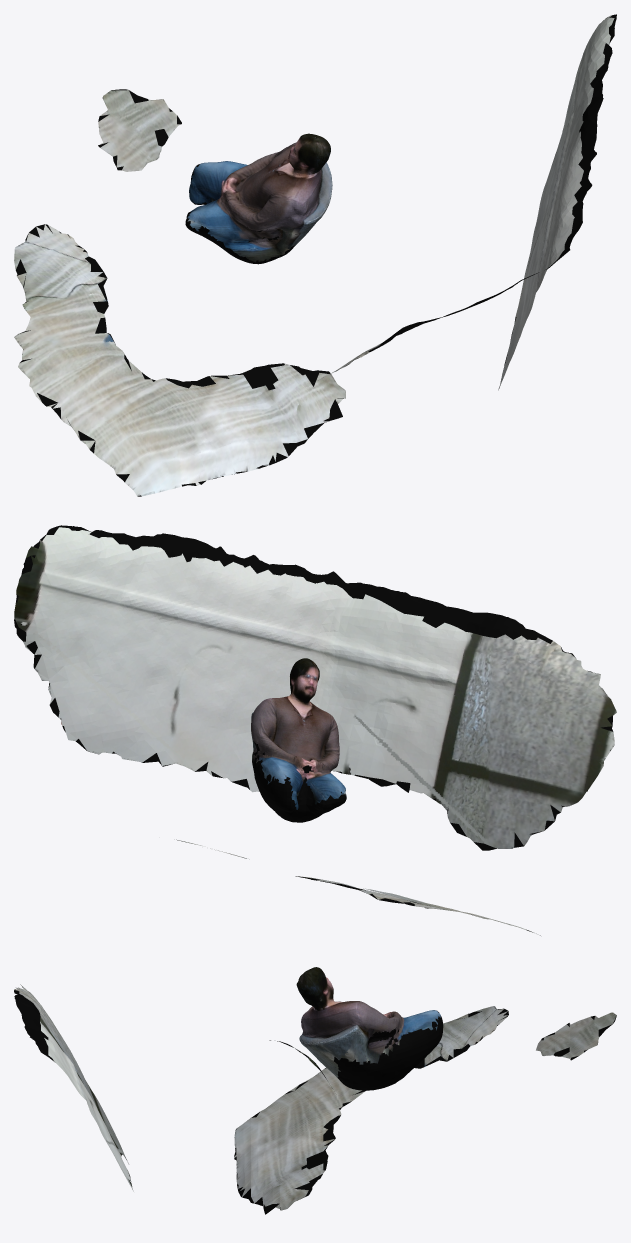
The model's file is Anthony-at-canyon-lakes5.glb.
The picture shows the model from 3 angles, top to bottom: view 1: azimuth 30°, elevation 25°; view 2: azimuth 150°, elevation 25°; view 3: azimuth 270°, elevation 25°; orthographic projection. The views are drawn at different scales.
Bounding box in the file's own units: 3.9 × 2.29 × 3.97.
1 material, 1 textured.
